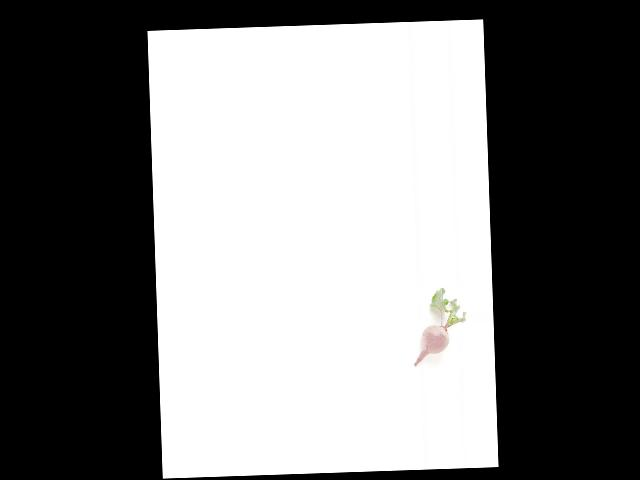beet: (411, 286, 467, 365)
